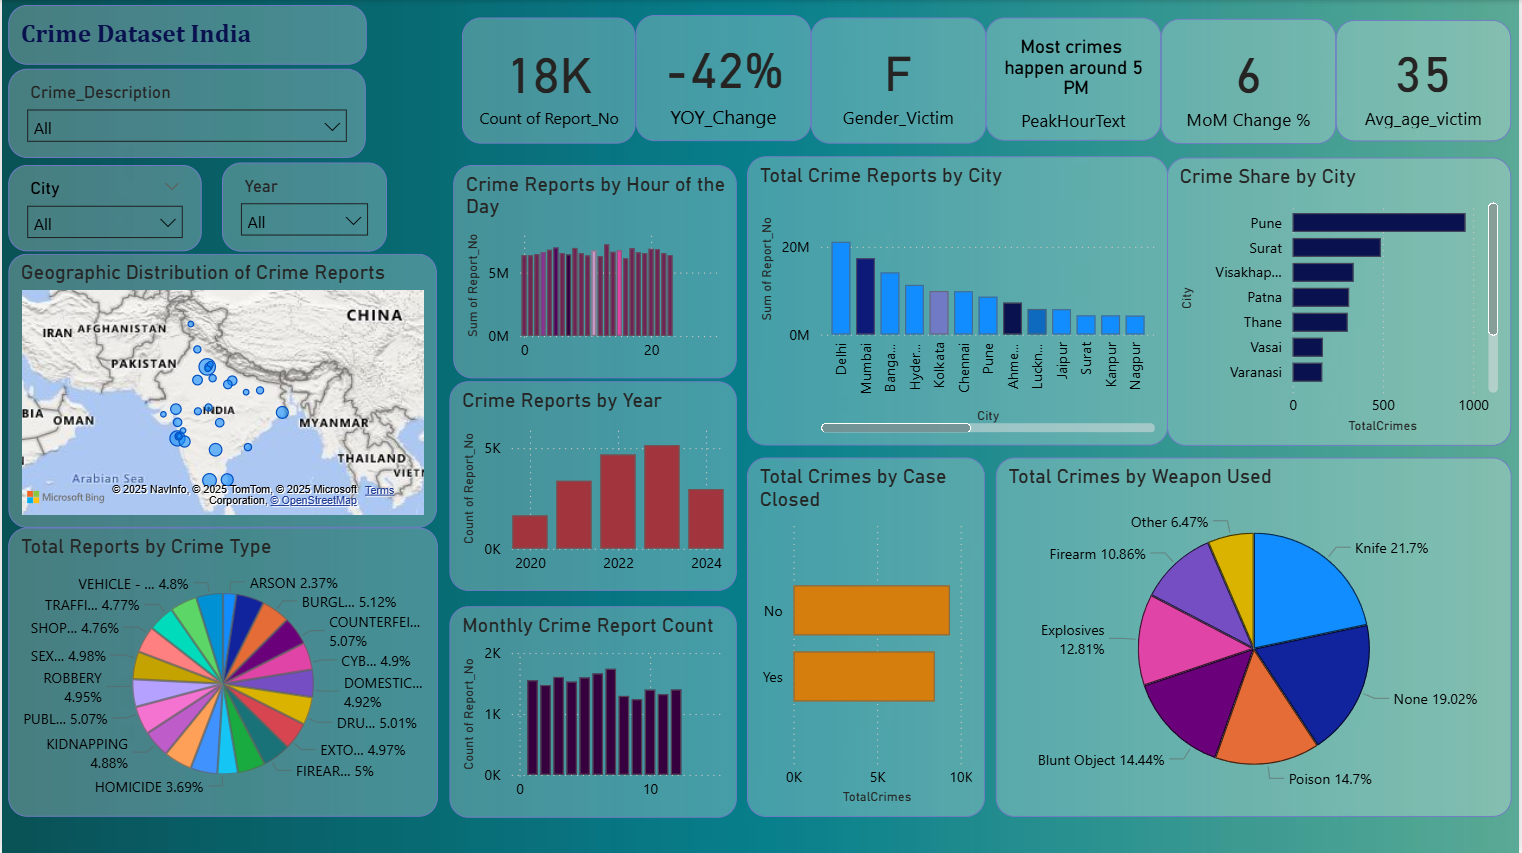

Layout of this report page (visuals, bound fields, positions):
{"tool":"powerbi","page":{"name":"Page 1","canvas":[1280,720],"ordinal":0},"visuals":[{"type":"card","fields":{"Values":["Count(crime_dataset_india.Report_No)"]},"box":[388.1,14.8,146.6,106.5],"z":0},{"type":"pieChart","title":"Total Reports by Crime Type","fields":{"Series":["crime_dataset_india.Crime_Description"],"Y":["Sum(crime_dataset_india.Report_No)"]},"box":[5,445,362,244],"z":1000},{"type":"clusteredColumnChart","title":"Crime Reports by Year","fields":{"Y":["Count(crime_dataset_india.Report_No)"],"Category":["crime_dataset_india.Year"]},"box":[378,322,242,177],"z":2000},{"type":"clusteredColumnChart","title":"Monthly Crime Report Count","fields":{"Y":["Count(crime_dataset_india.Report_No)"],"Category":["crime_dataset_india.Month"]},"box":[378,511,242,178],"z":3000},{"type":"columnChart","title":"Crime Reports by Hour of the Day","fields":{"Y":["Sum(crime_dataset_india.Report_No)"],"Category":["crime_dataset_india.Hour"]},"box":[381,139,239,180],"z":4000},{"type":"card","fields":{"Values":["crime_dataset_india.PeakHourText"]},"box":[829.9,14.8,147.6,104.4],"z":5000},{"type":"card","fields":{"Values":["crime_dataset_india.Most_Common_Victim_Age"]},"box":[1125.1,16.9,147.6,102.3],"z":6000},{"type":"card","fields":{"Values":["crime_dataset_india.Most_Common_Victim_Gender"]},"box":[682.3,14.8,147.6,106.5],"z":7000},{"type":"columnChart","title":"Total Crime Reports by City","fields":{"Category":["crime_dataset_india.City"],"Y":["Sum(crime_dataset_india.Report_No)"]},"box":[628,132,355,244],"z":8000},{"type":"card","fields":{"Values":["crime_dataset_india.YOY_Change"]},"box":[534.6,12.7,147.6,106.5],"z":9000},{"type":"barChart","title":"Crime Share by City","fields":{"Category":["crime_dataset_india.City"],"Y":["crime_dataset_india.TotalCrimes"]},"box":[983,133,290,243],"z":10000},{"type":"map","title":"Geographic Distribution of Crime Reports","fields":{"Category":["crime_dataset_india.City"],"Size":["crime_dataset_india.TotalCrimes"]},"box":[5.3,214.1,361.7,230.9],"z":11000},{"type":"pieChart","title":"Total Crimes by Weapon Used","fields":{"Category":["crime_dataset_india.Weapon_Used"],"Y":["crime_dataset_india.TotalCrimes"]},"box":[838,386,435,303],"z":12000},{"type":"barChart","title":"Total Crimes by Case Closed","fields":{"Category":["crime_dataset_india.Case_Closed"],"Y":["crime_dataset_india.TotalCrimes"]},"box":[628,386,201,303],"z":13000},{"type":"slicer","fields":{"Values":["crime_dataset_india.City"]},"box":[5,139,163,73],"z":14000},{"type":"slicer","fields":{"Values":["crime_dataset_india.Crime_Description"]},"box":[5.3,58,301.6,74.9],"z":15000},{"type":"slicer","fields":{"Values":["crime_dataset_india.Year"]},"box":[185.6,137.1,139.2,74.9],"z":16000},{"type":"textbox","box":[5,4,302,50],"z":17000},{"type":"card","fields":{"Values":["crime_dataset_india.MoM Change %"]},"box":[977.5,15.8,147.6,105.4],"z":18000}]}

Visuals, with their boxes in screenshot pixels (x1, y1, x2, y2), scaled from the page's 1280x720 canvas onto the 1522x853 screenshot:
card - Count(crime_dataset_india.Report_No): l=461, t=18, r=636, b=144
"Total Reports by Crime Type" pieChart: l=6, t=527, r=436, b=816
"Crime Reports by Year" clusteredColumnChart: l=449, t=381, r=737, b=591
"Monthly Crime Report Count" clusteredColumnChart: l=449, t=605, r=737, b=816
"Crime Reports by Hour of the Day" columnChart: l=453, t=165, r=737, b=378
card - crime_dataset_india.PeakHourText: l=987, t=18, r=1162, b=141
card - crime_dataset_india.Most_Common_Victim_Age: l=1338, t=20, r=1513, b=141
card - crime_dataset_india.Most_Common_Victim_Gender: l=811, t=18, r=987, b=144
"Total Crime Reports by City" columnChart: l=747, t=156, r=1169, b=445
card - crime_dataset_india.YOY_Change: l=636, t=15, r=811, b=141
"Crime Share by City" barChart: l=1169, t=158, r=1514, b=445
"Geographic Distribution of Crime Reports" map: l=6, t=254, r=436, b=527
"Total Crimes by Weapon Used" pieChart: l=996, t=457, r=1514, b=816
"Total Crimes by Case Closed" barChart: l=747, t=457, r=986, b=816
slicer - crime_dataset_india.City: l=6, t=165, r=200, b=251
slicer - crime_dataset_india.Crime_Description: l=6, t=69, r=365, b=157
slicer - crime_dataset_india.Year: l=221, t=162, r=386, b=251
textbox: l=6, t=5, r=365, b=64
card - crime_dataset_india.MoM Change %: l=1162, t=19, r=1338, b=144
